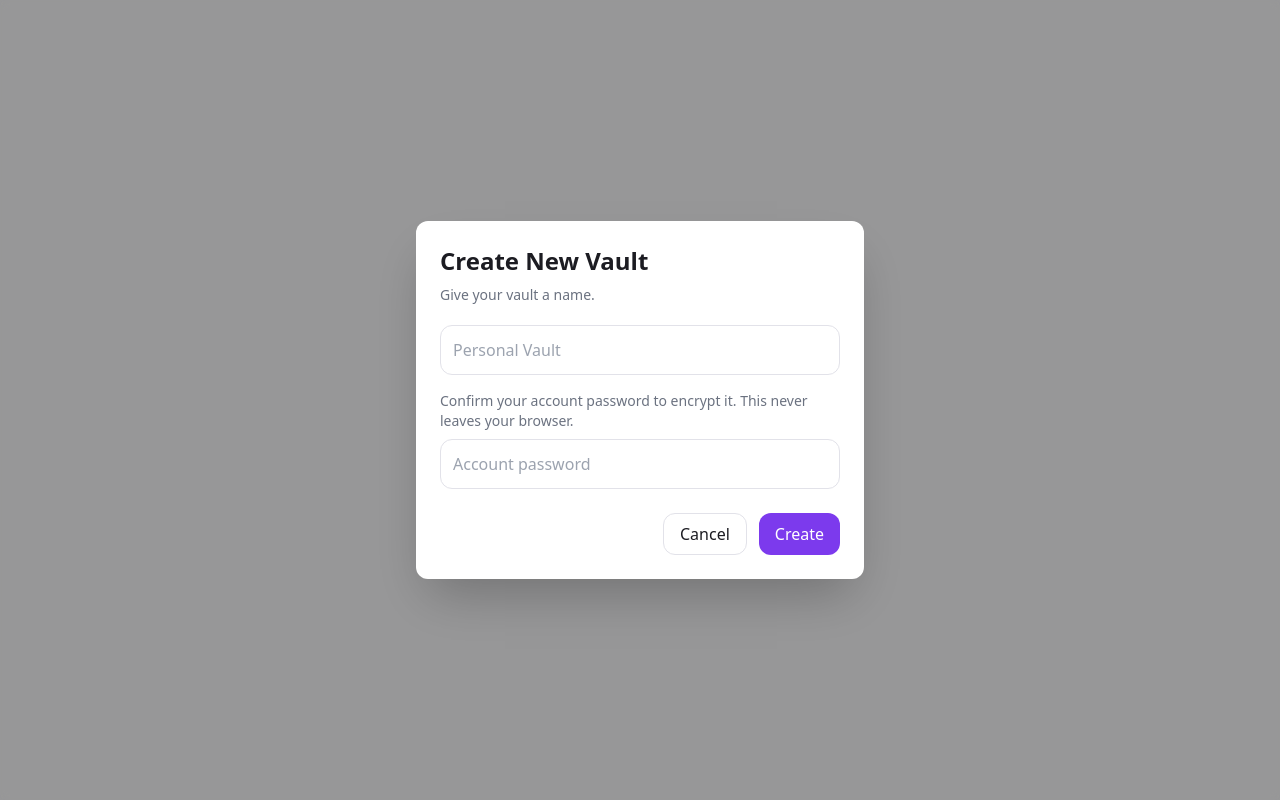
it: CreateVaultDialog › wrong password shows "Incorrect password." and never creates a vault or performs vault crypto
Type "My Vault" into the field with placeholder "Personal Vault". click: (640, 350)
box: [440, 325, 840, 375]
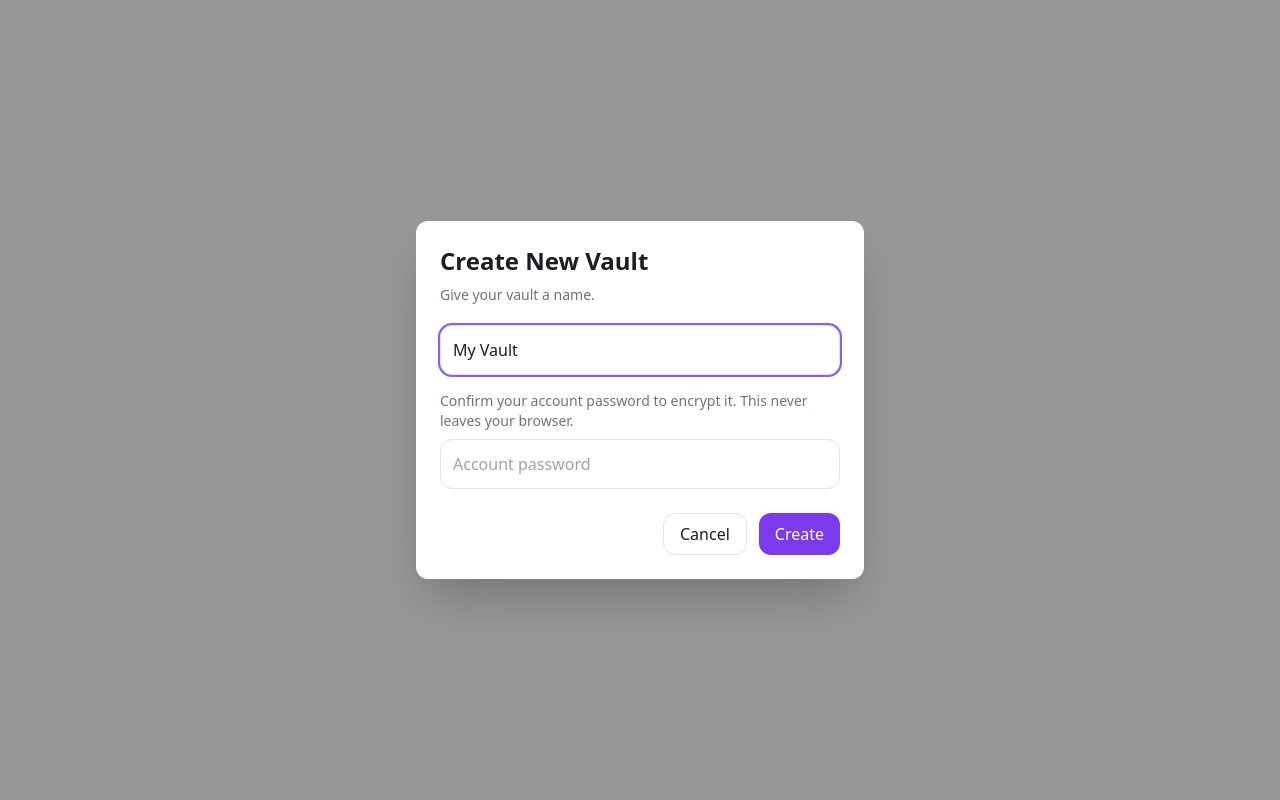
Type "totally-wrong" into the password field with placeholder "Account password". click: (640, 464)
box: [440, 439, 840, 489]
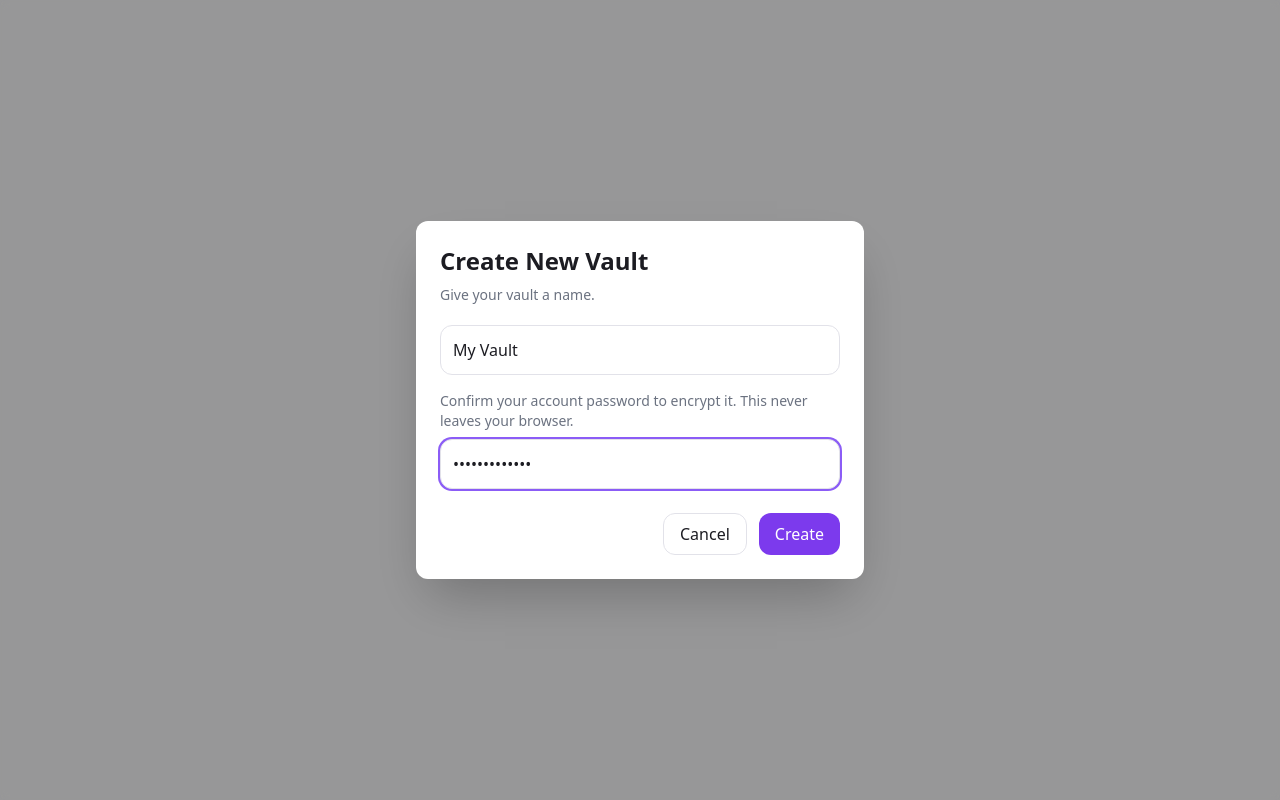
Click the button "Create". click: (799, 534)
box: [759, 513, 840, 555]
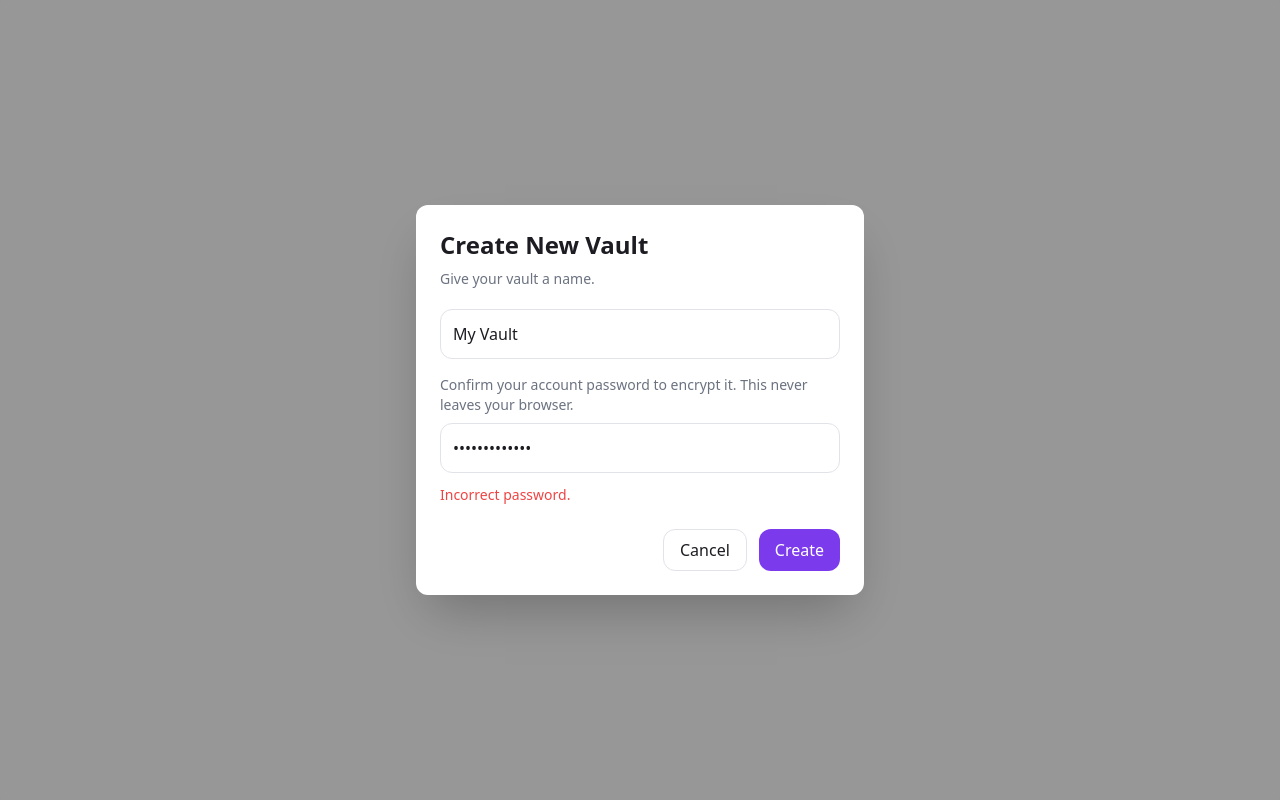
Expected: the text "Incorrect password." is shown, [440, 485, 570, 504]
